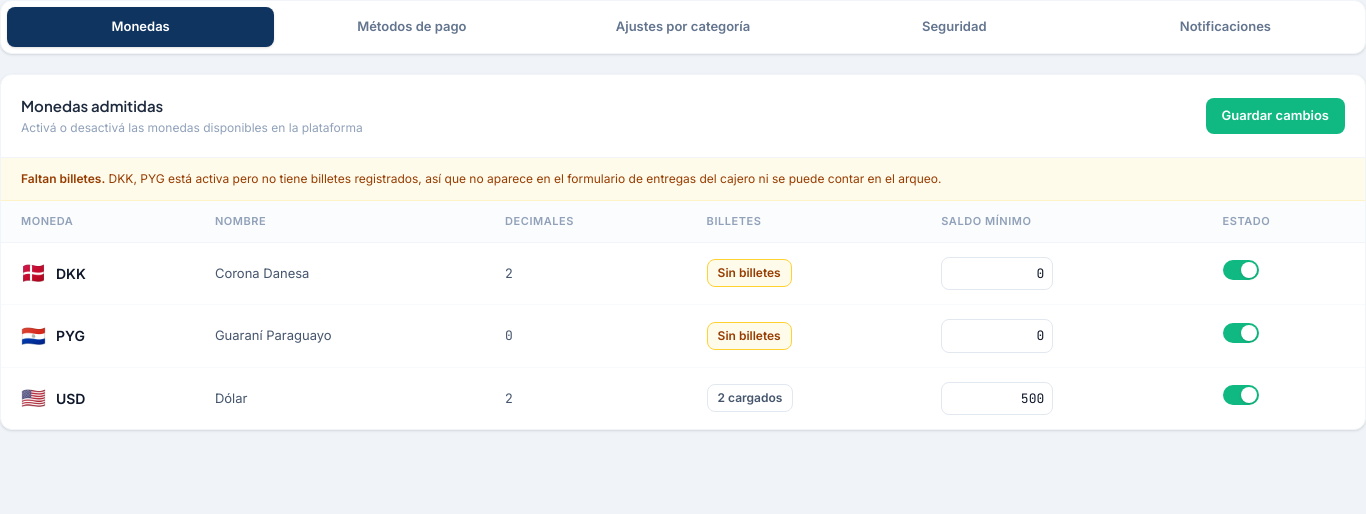
Test: Configuration (API + tabs) › PI-80: avisa si el saldo mínimo no es un número
This screenshot has width=1366, height=514.
Expected: the heading "Monedas admitidas" is shown, [21,96,163,114]
Replace the text in the field named "Saldo mínimo de USD" in the row of "USD" with "-5": (997, 398) [941,382,1053,415]
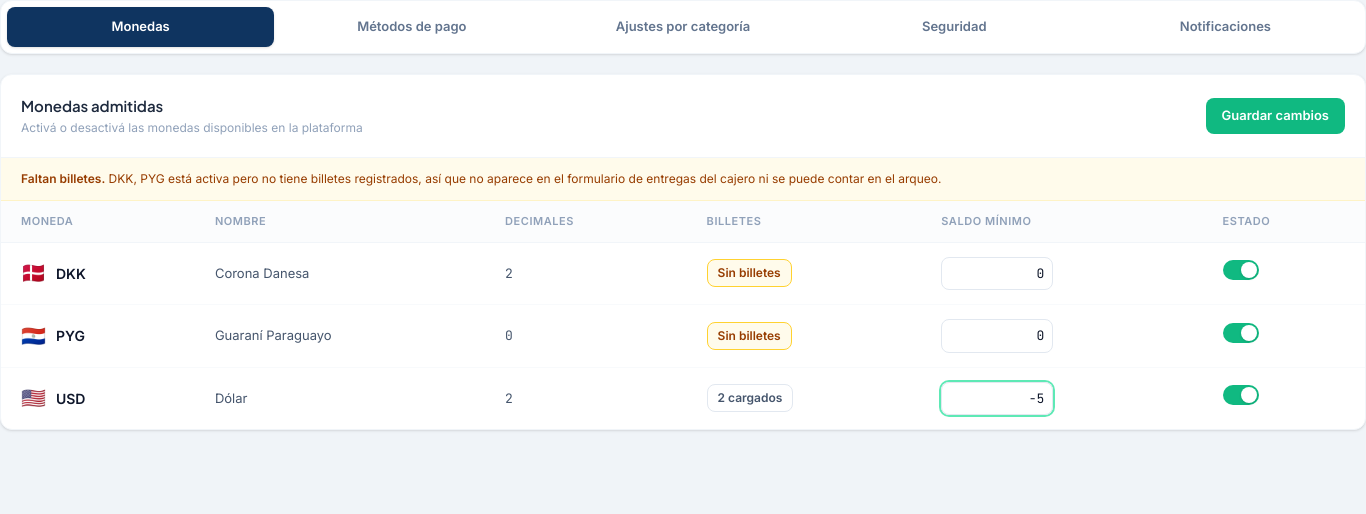
Press Tab
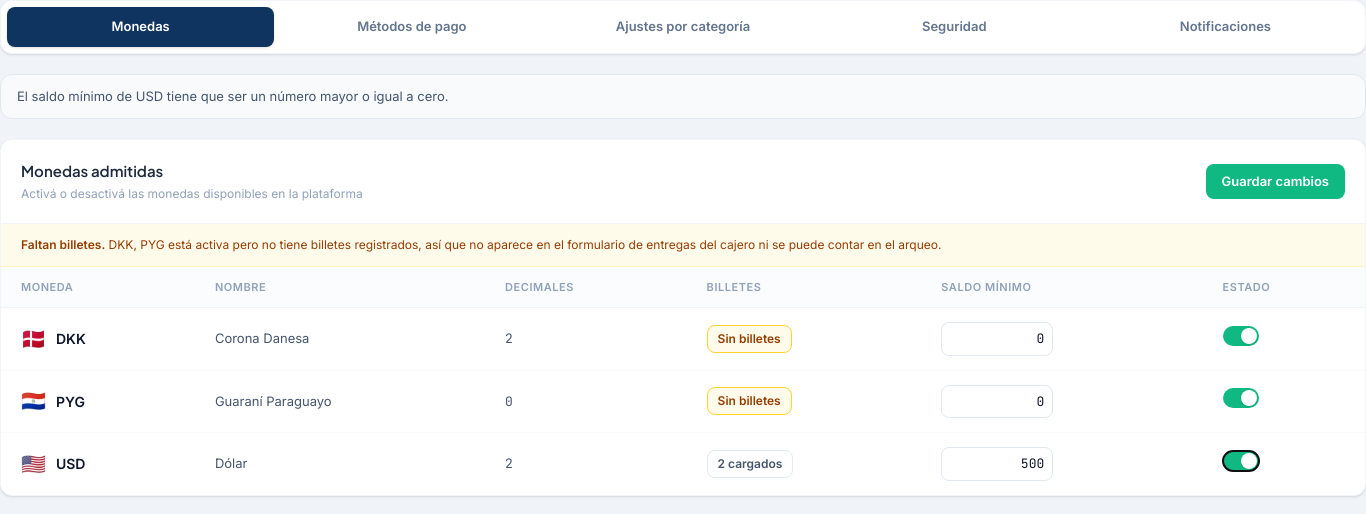
Expected: the message shows "mayor o igual a cero", [17,88,448,104]
